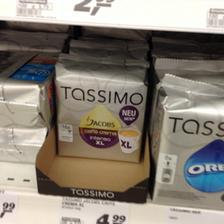Kaffee: (53, 52, 148, 162), (148, 77, 224, 203)
